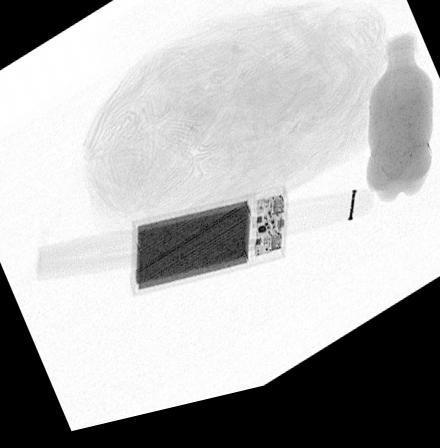Powerbank: (126, 198, 289, 300)
